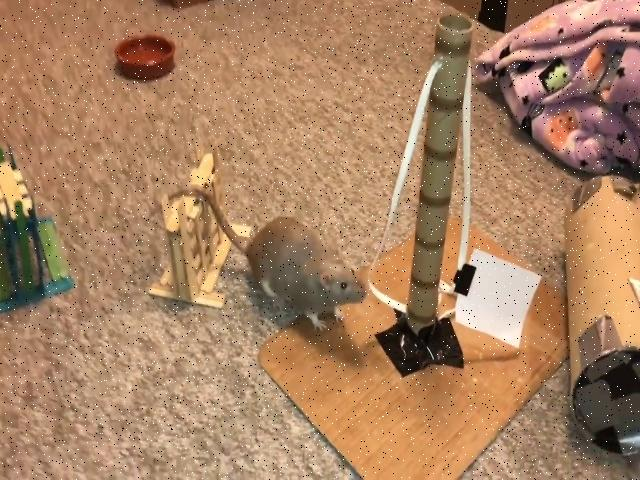Tikus: (153, 190, 367, 330)
